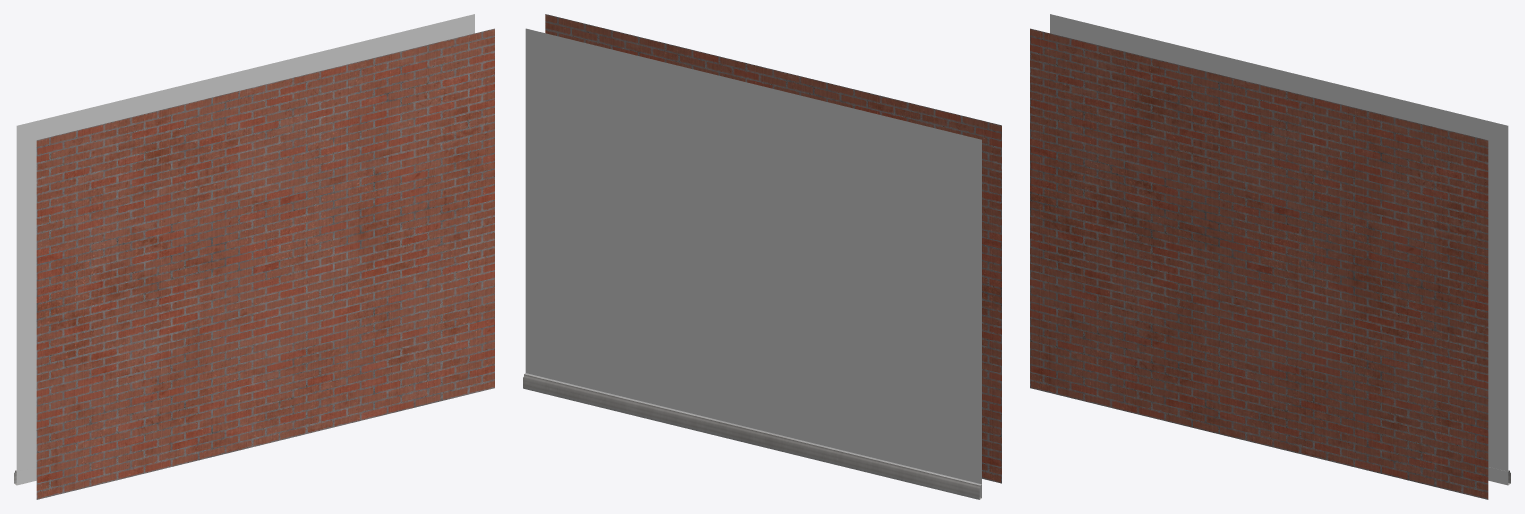
Rendered from House_03_Wall_01.fbx.
3 views of the same model, side by side, from view 1: azimuth 30°, elevation 25°; view 2: azimuth 150°, elevation 25°; view 3: azimuth 330°, elevation 25° (orthographic).
Parts seen in each view (by area): view 1: House_03_Wall_01; view 2: House_03_Wall_01; view 3: House_03_Wall_01.
Boxes of the visible parts, x1,y1,x2,y2 form: House_03_Wall_01: (14, 14, 494, 499); House_03_Wall_01: (523, 14, 1001, 499); House_03_Wall_01: (1030, 14, 1510, 499).
Bounding box in the file's own units: 400 × 300 × 33.93.
